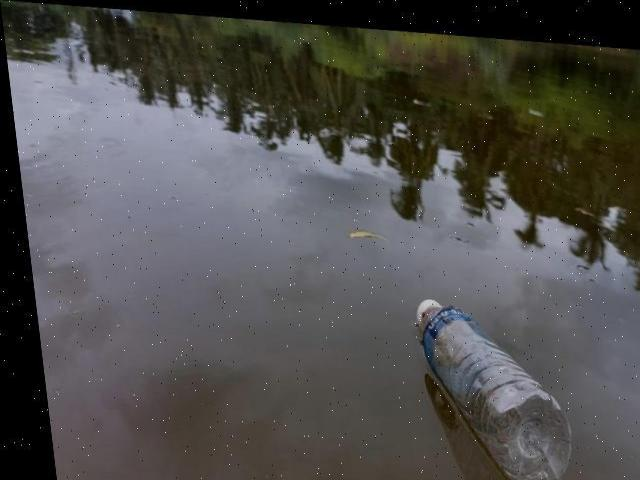Bottle: (404, 294, 584, 480)
